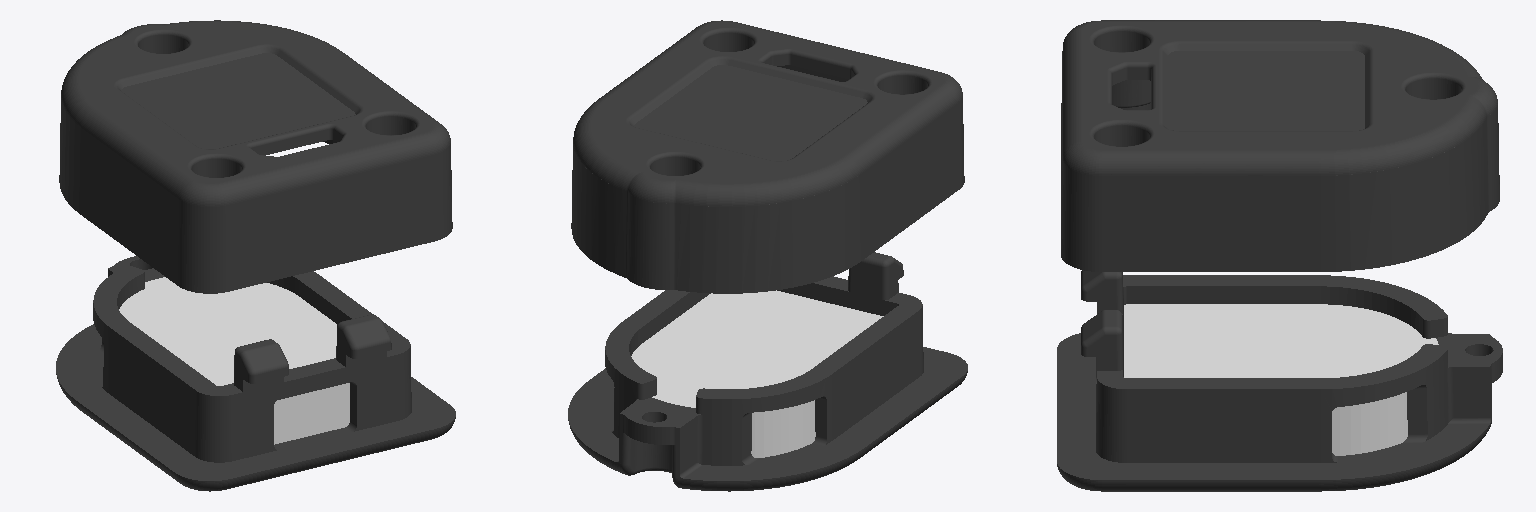
URDF robot description (digit):
<robot name="digit">
    <link name="digit_base">
        <visual>
            <origin xyz="-1.7347234759768070944e-18 0.0039999999999999992159 -0.02834999999999999673" rpy="0 -0 0" />
            <geometry>
            <mesh filename="../../meshes/digit_bottom.stl"/>
            </geometry>
            <material name="digit_bottom_material">
            <color rgba="0.30196078431372547213 0.30196078431372547213 0.30196078431372547213 1.0"/>
            </material>
        </visual>
        <collision>
            <origin xyz="-1.7347234759768070944e-18 0.0039999999999999992159 -0.02834999999999999673" rpy="0 -0 0" />
            <geometry>
            <mesh filename="../../meshes/digit_bottom.stl"/>
            </geometry>
        </collision>
        <visual>
            <origin xyz="-1.7347234759768070944e-18 0.0039999999999999992159 -0.02834999999999999673" rpy="0 -0 0" />
            <geometry>
            <mesh filename="../../meshes/digit_top.stl"/>
            </geometry>
            <material name="digit_top_material">
            <color rgba="0.30196078431372547213 0.30196078431372547213 0.30196078431372547213 1.0"/>
            </material>
        </visual>
        <collision>
            <origin xyz="-1.7347234759768070944e-18 0.0039999999999999992159 -0.02834999999999999673" rpy="0 -0 0" />
            <geometry>
            <mesh filename="../../meshes/digit_top.stl"/>
            </geometry>
        </collision>
        <visual>
            <origin xyz="6.9388939039072283776e-18 0.0054726271455009002642 -0.02834999999999999673" rpy="0 -0 0" />
            <geometry>
            <mesh filename="../../meshes/acrylic_window.stl"/>
            </geometry>
            <material name="acrylic_window_material">
            <color rgba="0.91764705882352937127 0.91764705882352937127 0.91764705882352937127 1.0"/>
            </material>
        </visual>
        <collision>
            <origin xyz="6.9388939039072283776e-18 0.0054726271455009002642 -0.02834999999999999673" rpy="0 -0 0" />
            <geometry>
            <mesh filename="../../meshes/acrylic_window.stl"/>
            </geometry>
        </collision>
        <visual>
            <origin xyz="-1.7347234759768070944e-18 0.0039999999999999992159 -0.02834999999999999673" rpy="0 -0 0" />
            <geometry>
            <mesh filename="../../meshes/digit_center.stl"/>
            </geometry>
            <material name="digit_center_material">
            <color rgba="0.30196078431372547213 0.30196078431372547213 0.30196078431372547213 1.0"/>
            </material>
        </visual>
        <collision>
            <origin xyz="-1.7347234759768070944e-18 0.0039999999999999992159 -0.02834999999999999673" rpy="0 -0 0" />
            <geometry>
            <mesh filename="../../meshes/digit_center.stl"/>
            </geometry>
        </collision>
        <inertial>
            <origin xyz="5.63455410584598546e-09 -0.00036102000365889093522 -0.017219651141187425347" rpy="0 0 0"/>
            <mass value="0.011198578791898805909" />
            <inertia ixx="1.9644553798333779512e-06" ixy="-2.4770919459996182574e-12"  ixz="1.0361463195467100313e-11" iyy="1.6079833449569471555e-06" iyz="3.8106738589359573195e-09" izz="1.878363607520652625e-06" />
        </inertial>
    </link>

    <link name="gel">
        <fem>
        <origin xyz="3.4694469519536141888e-18 0.005472545706442896 -0.0242" rpy="0 3.141592653589793116 0" />
        <density value="1e3"/>
        <youngs value="1e6"/>
        <poissons value="0.3"/>
        <damping value="0.0"/>

        <!-- Soft body trembles for unknown reasons. TODO -->
        <attachDistance value="1.0e-3"/>
        
        <tetmesh filename="../../meshes/gel.tet"/>
        </fem>
    </link>

    <joint name="attach" type="fixed">
        <origin xyz="0 0 0" rpy="0 0 0" />
        <parent link="digit_base" />
        <child link="gel" />
        <axis xyz="0 0 0"/>
    </joint>

</robot>

--- Facts derived from the render (not from the file) ---
The picture shows the robot from 3 angles, left to right: view 1: azimuth 30°, elevation 25°; view 2: azimuth 150°, elevation 25°; view 3: azimuth 270°, elevation 25°; orthographic projection.
Model digit with 2 links and 1 joints (1 fixed), rooted at digit_base, posed all joints at 0.
Links seen in each view (by area): view 1: digit_base; view 2: digit_base; view 3: digit_base.
Link boxes in pixels (box(x1,y1,x2,y2)): digit_base: box(56, 20, 455, 491); digit_base: box(568, 20, 967, 491); digit_base: box(1057, 20, 1502, 491).
Size in the robot's own frame: 0.0269 by 0.034 by 0.0283 metres.
3 mesh visuals loaded from 4 distinct referenced files (3 binary STL); not drawn: 1 (reference not matched to a file when rendering).